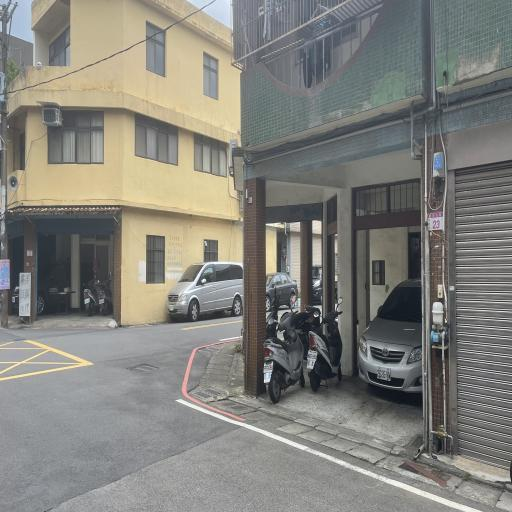car: (347, 278, 430, 413), (164, 244, 245, 330)
redline: (177, 331, 231, 394)
whiteline: (253, 418, 484, 512)
